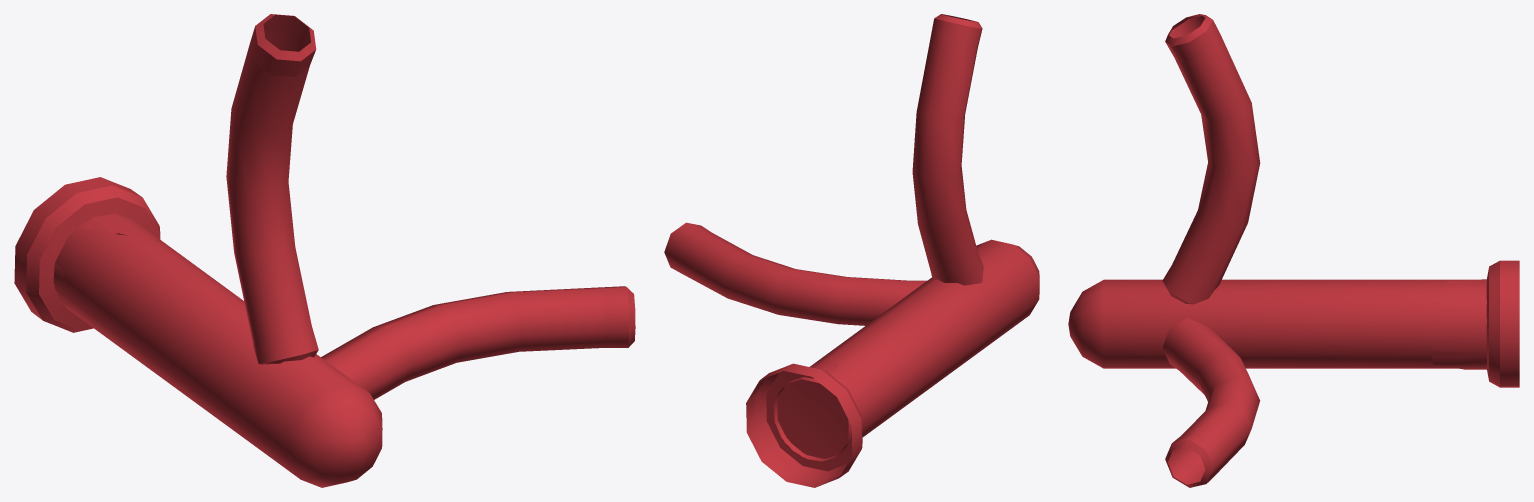
The model's file is airhockey_rope_geo.glb.
3 renders of one model, left to right at view 1: azimuth 30°, elevation 25°; view 2: azimuth 150°, elevation 25°; view 3: azimuth 270°, elevation 25°, orthographic. The views are drawn at different scales.
Parts seen in each view (by area): view 1: rope_fence_pole, rope_fence_rope_top, rope_fence_rope_right, rope_fence_destroyed; view 2: rope_fence_pole, rope_fence_rope_top, rope_fence_rope_right, rope_fence_destroyed; view 3: rope_fence_pole, rope_fence_rope_top, rope_fence_rope_right, rope_fence_destroyed.
Part boxes in pixels (box(x1,y1,x2,y2)): rope_fence_pole: box(15, 177, 382, 487); rope_fence_rope_top: box(226, 14, 318, 364); rope_fence_rope_right: box(321, 286, 635, 399); rope_fence_destroyed: box(14, 177, 161, 332); rope_fence_pole: box(746, 239, 1039, 487); rope_fence_rope_top: box(912, 14, 983, 285); rope_fence_rope_right: box(664, 222, 926, 325); rope_fence_destroyed: box(746, 362, 861, 487); rope_fence_pole: box(1068, 263, 1519, 387); rope_fence_rope_top: box(1162, 14, 1260, 304); rope_fence_rope_right: box(1162, 318, 1260, 487); rope_fence_destroyed: box(1431, 260, 1519, 386).
Size of the model in its own units: 1.13 by 1.13 by 1.26.
